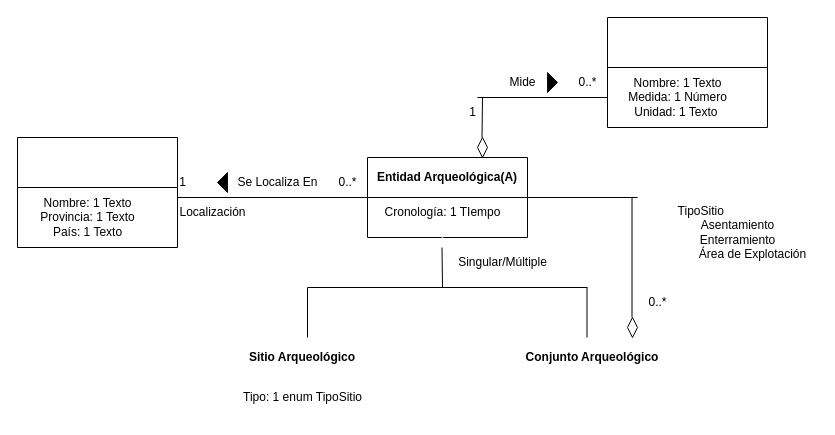
Image size: 835x435. Some labels were removed from this diagram. The box of each missing label's shape, as (x1, y1, x2, y2) in pixels:
Dimensión: (606, 16, 768, 128)
Lugar: (16, 136, 178, 248)
